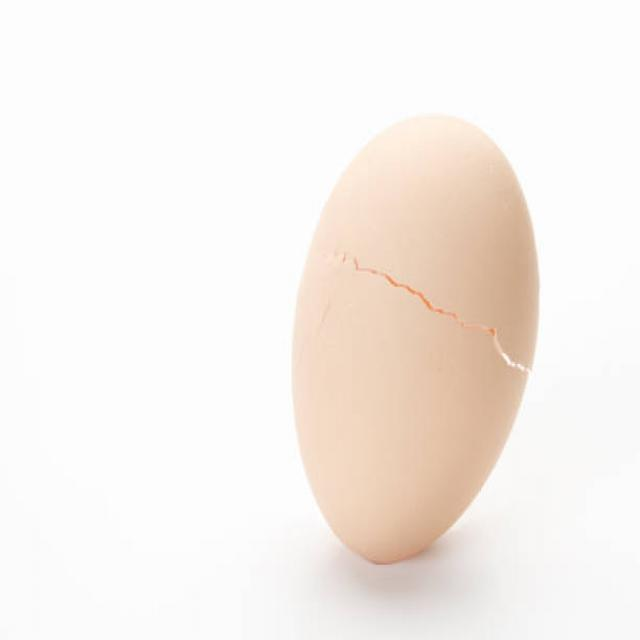biodegradable: (292, 113, 541, 569)
